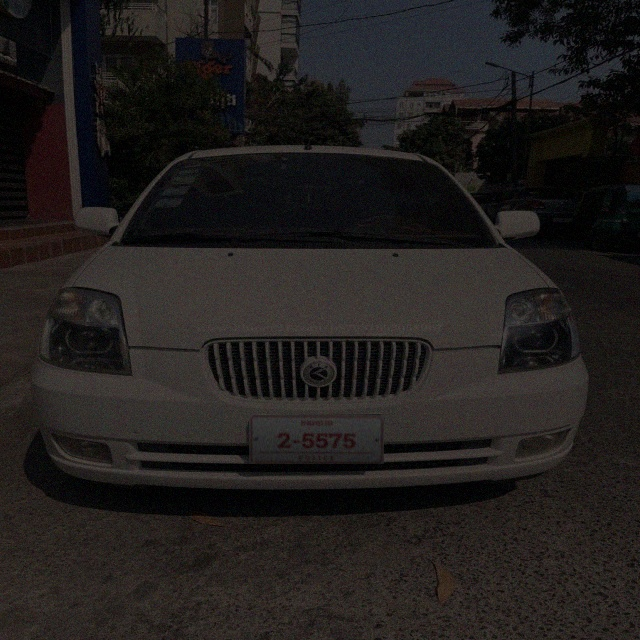Plate Number: (249, 415, 384, 464)
